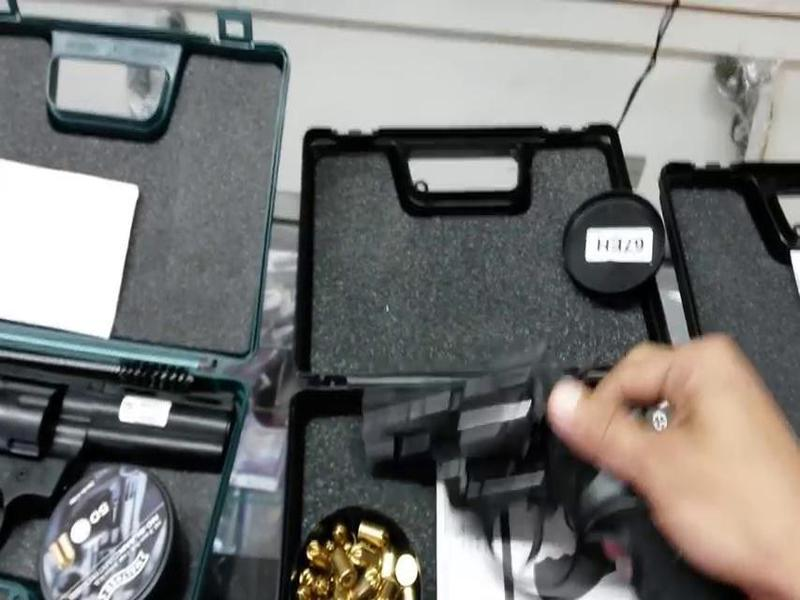Revolver: (352, 346, 715, 600)
